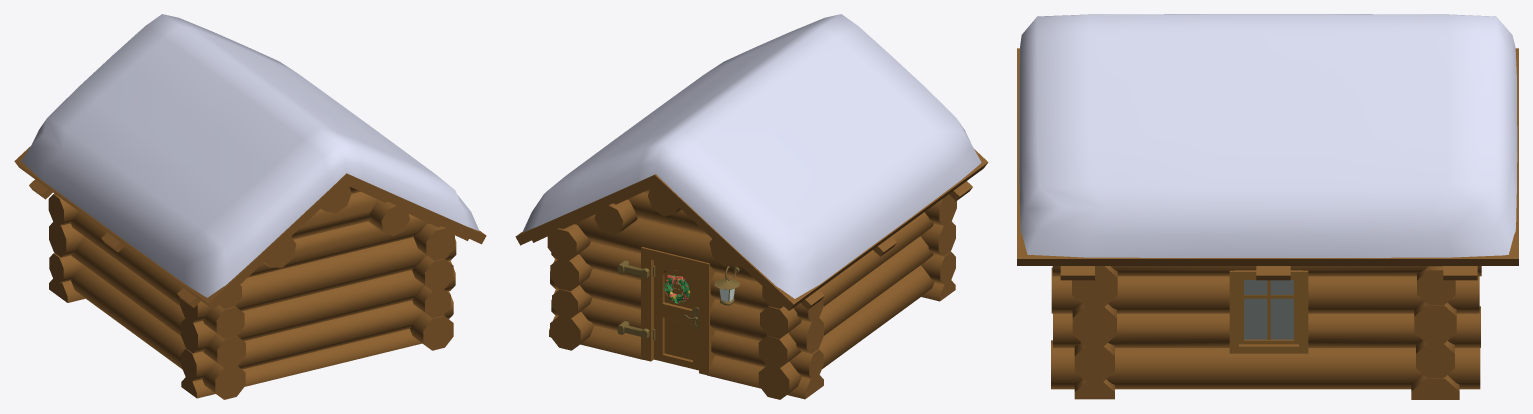
Rendered from cabin_1.fbx.
3 renders of one model, left to right at view 1: azimuth 30°, elevation 25°; view 2: azimuth 150°, elevation 25°; view 3: azimuth 270°, elevation 25°, orthographic. The views are drawn at different scales.
Parts seen in each view (by area): view 1: snow_roof, House; view 2: snow_roof, House, Door, Lamp, garland; view 3: snow_roof, House.
Boxes of the visible parts, box(x1,y1,x2,y2) form: snow_roof: box(21, 14, 479, 297); House: box(14, 146, 486, 399); snow_roof: box(522, 14, 981, 298); House: box(515, 149, 988, 399); Door: box(653, 260, 698, 370); Lamp: box(714, 266, 739, 305); garland: box(664, 274, 689, 303); snow_roof: box(1019, 14, 1517, 257); House: box(1017, 48, 1518, 399).
Size of the model in its own units: 602 by 484 by 721.
